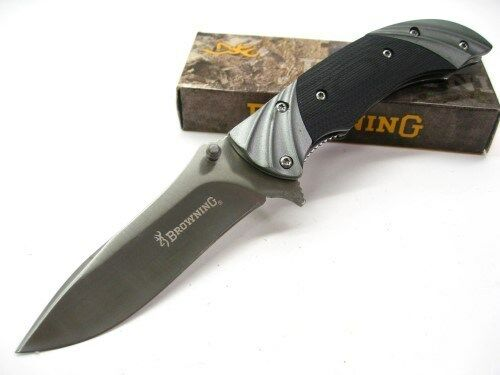knief: (10, 20, 492, 366)
